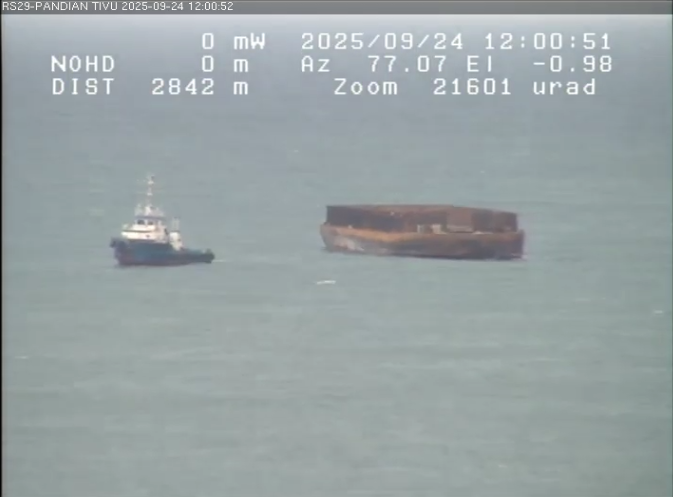BARGE: (274, 161, 550, 285)
OFFSHORE_SUPPLY_VESSEL: (90, 159, 241, 281)
TOWING: (58, 133, 599, 348)
